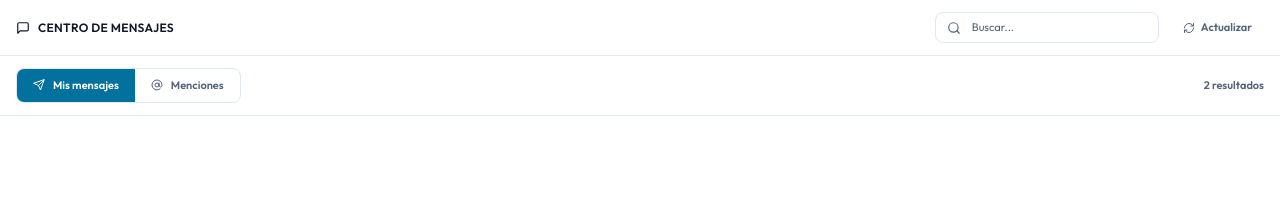
Test: ChatAdminPage › switches to the mentions tab and fetches mentions
Click the button "Menciones": (187, 85) x1=135 y1=69 x2=240 y2=102
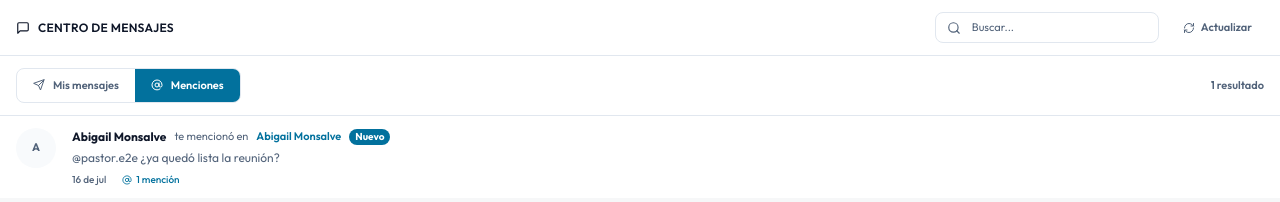
expect the text "@pastor.e2e ¿ya quedó lista la reunión?" is shown: met, box x1=72 y1=150 x2=280 y2=164
expect the text "Nuevo" is shown: met, box x1=349 y1=128 x2=390 y2=144
